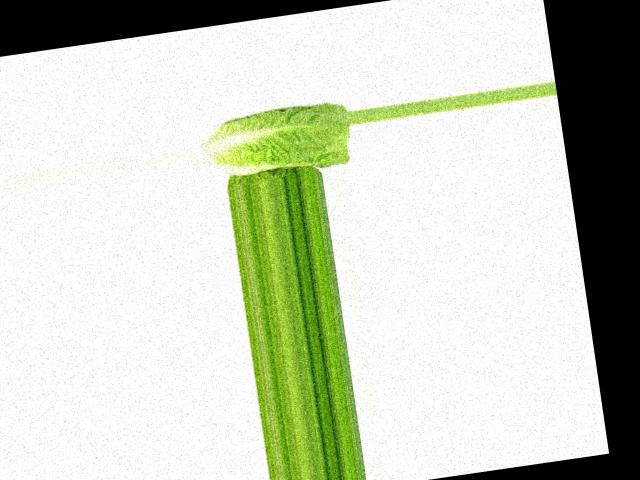lettuce: (196, 89, 356, 181)
